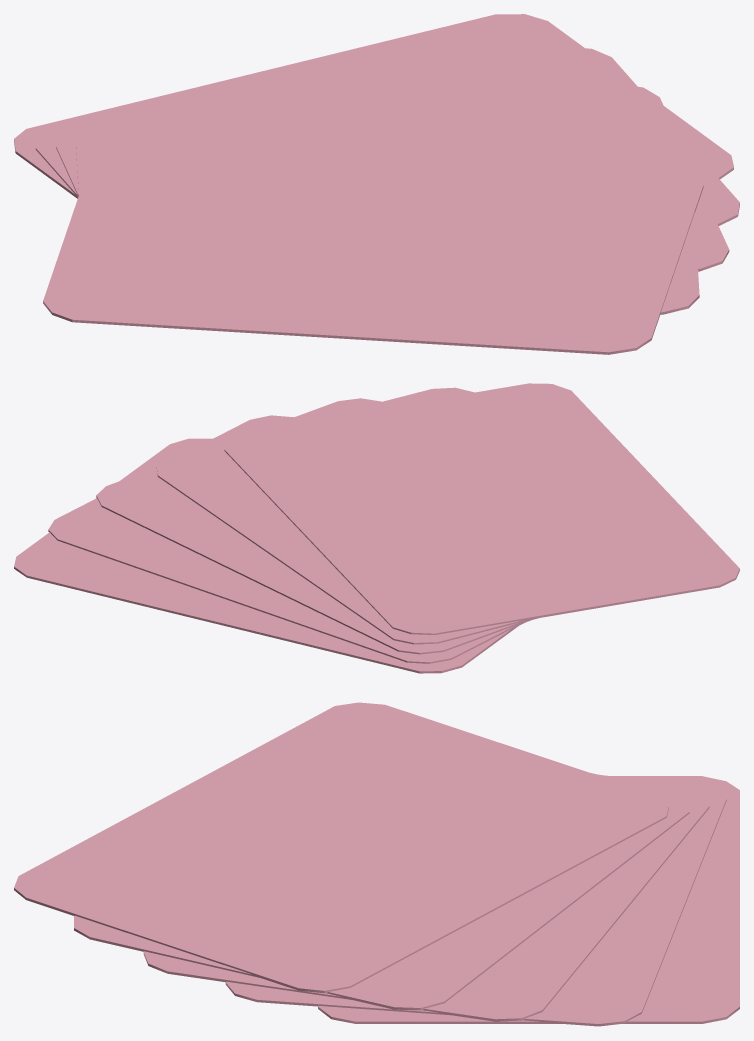
The model's file is PlayingCardHand.fbx.
3 views of the same model, one above another, from view 1: azimuth 30°, elevation 25°; view 2: azimuth 150°, elevation 25°; view 3: azimuth 270°, elevation 25° (orthographic). The views are drawn at different scales.
Visible parts, largest first — view 1: PlayingCardHand; view 2: PlayingCardHand; view 3: PlayingCardHand.
Part boxes in pixels (x1=…): PlayingCardHand: x1=14, y1=14, x2=739, y2=354; PlayingCardHand: x1=14, y1=383, x2=739, y2=673; PlayingCardHand: x1=14, y1=702, x2=739, y2=1026.
Size of the model in its own units: 8.42 by 0.1128 by 8.16.
